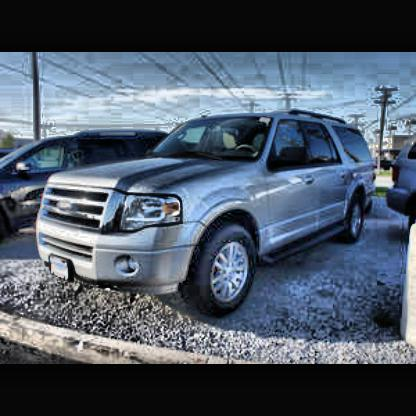Ford Expedition EL SUV 2009: (34, 110, 384, 327)
